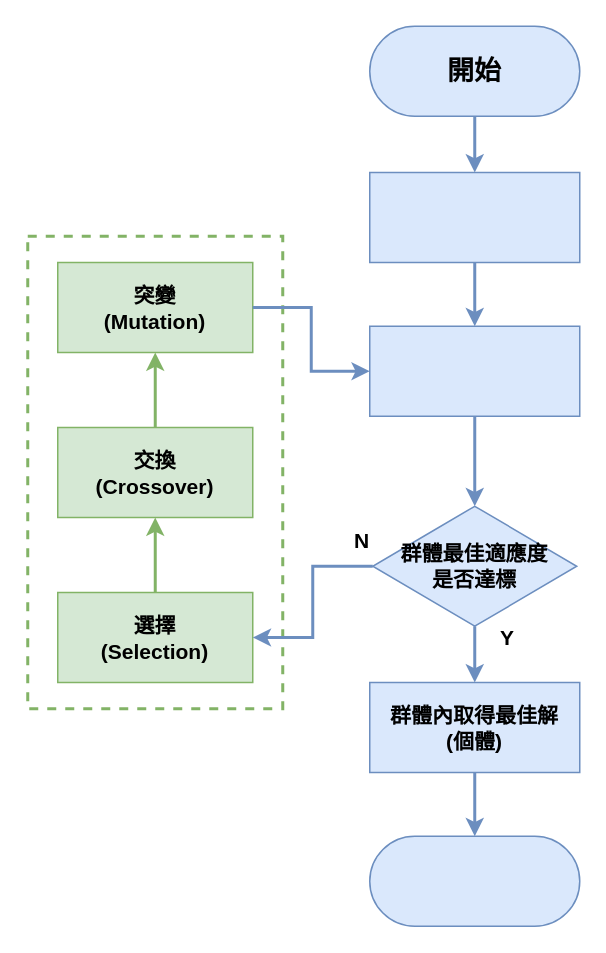
Some shapes in this 606 by 953 pixel diagram are drawn without their labels. Each missing label, with the centre of its shape:
"生成初始的群體" belongs at [474,216].
"結束" belongs at [474,880].
"計算群體內每一個體適應度(fitness)" belongs at [474,370].
